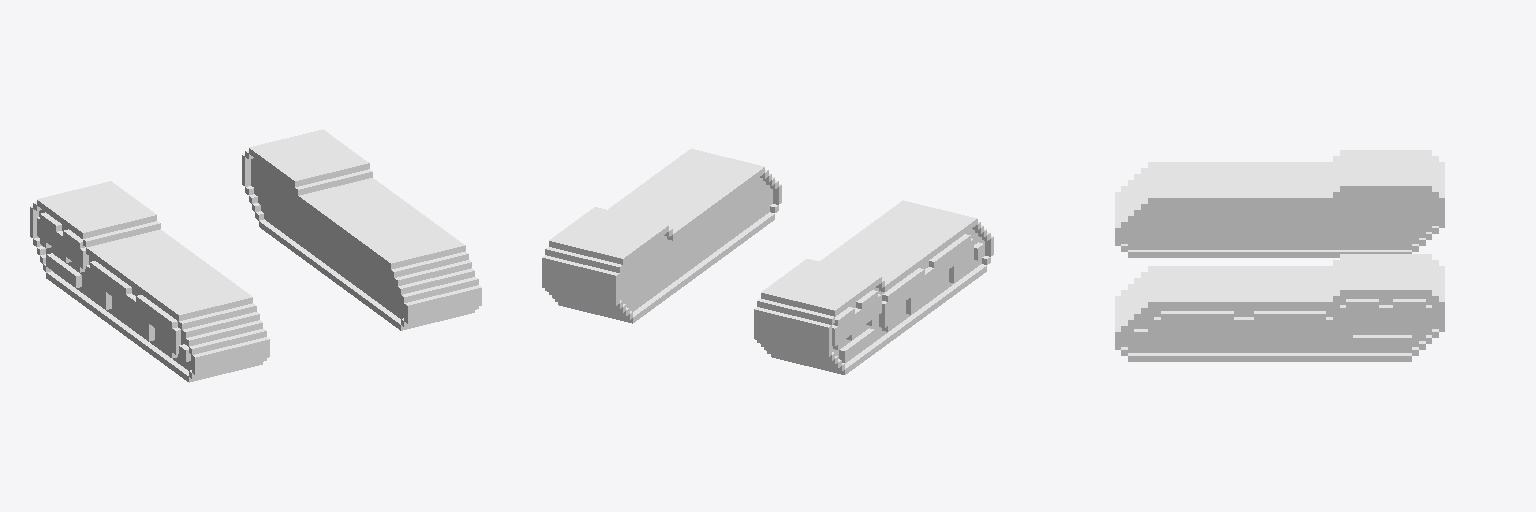
The model's file is MetalSlugs.obj.
3 views of the same model, side by side, from view 1: azimuth 30°, elevation 25°; view 2: azimuth 150°, elevation 25°; view 3: azimuth 270°, elevation 25° (orthographic).
Parts seen in each view (by area): view 1: object 1; view 2: object 1; view 3: object 1.
Part boxes in pixels (left/top/right/bottom): object 1: left=30, top=129, right=481, bottom=382; object 1: left=542, top=149, right=993, bottom=374; object 1: left=1115, top=150, right=1444, bottom=361.
Size of the model in its own units: 5 by 1.2 by 5.